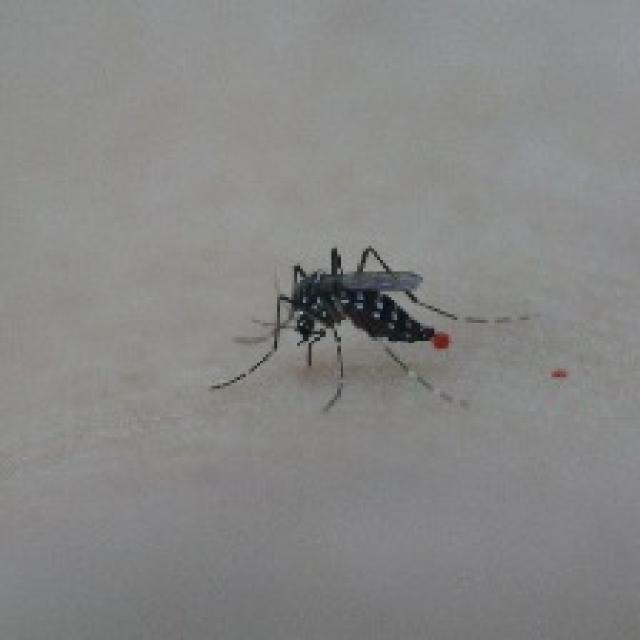aedes: (206, 240, 534, 414)
